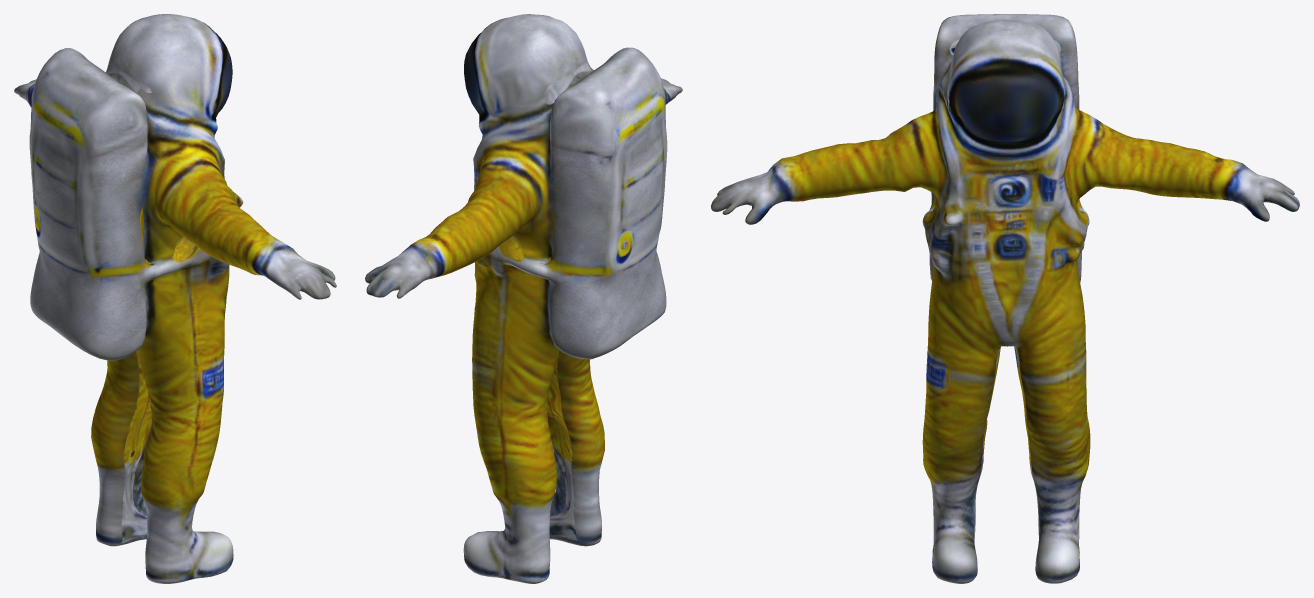
The model's file is 491932e27744_501310cdf7f3_astronaut__yellow_s.glb.
3 views of the same model, side by side, from view 1: azimuth 30°, elevation 25°; view 2: azimuth 150°, elevation 25°; view 3: azimuth 270°, elevation 25° (orthographic).
Parts seen in each view (by area): view 1: mesh; view 2: mesh; view 3: mesh.
Part boxes in pixels (x1=…): mesh: x1=14, y1=14, x2=336, y2=583; mesh: x1=365, y1=14, x2=682, y2=583; mesh: x1=711, y1=14, x2=1299, y2=583.
Size of the model in its own units: 0.3423 by 0.9994 by 0.9845.
Materials: 1 (1 with a texture image).
